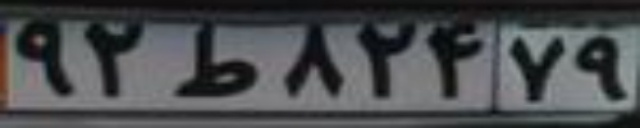2: (83, 18, 146, 98), (356, 20, 417, 100)
4: (428, 21, 492, 98)
7: (506, 35, 565, 104)
8: (282, 24, 345, 97)
9: (15, 18, 73, 95), (574, 34, 630, 101)
taa: (172, 21, 261, 97)
